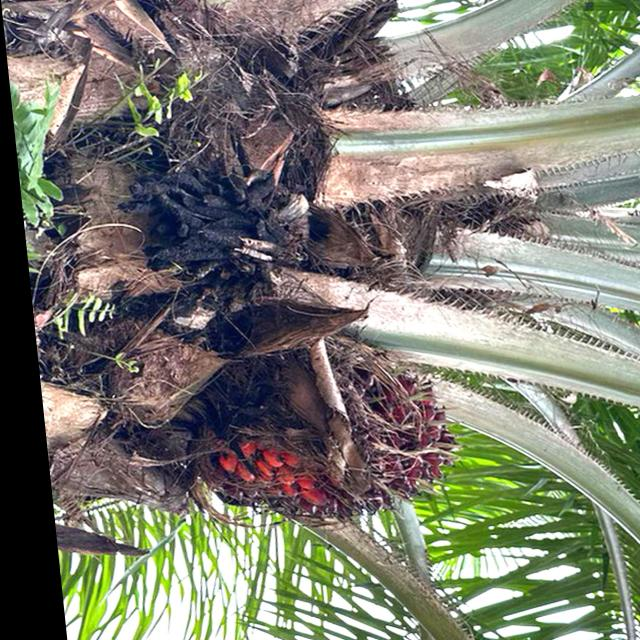ripe: (170, 334, 458, 524)
